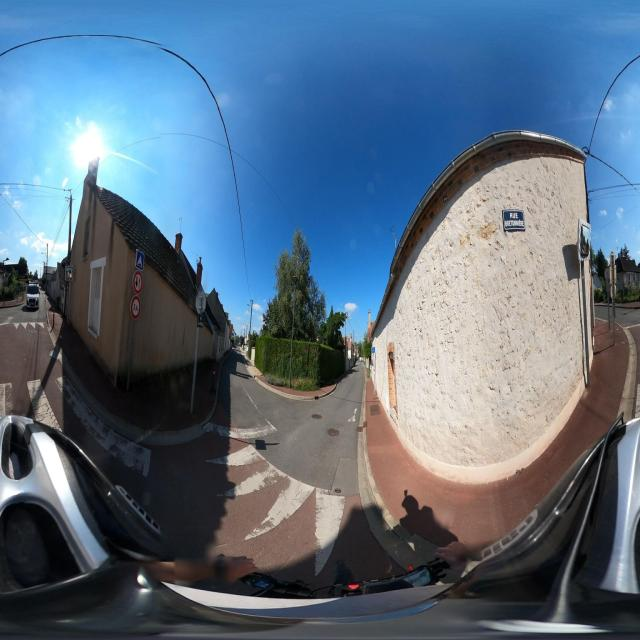car: (22, 282, 40, 312)
